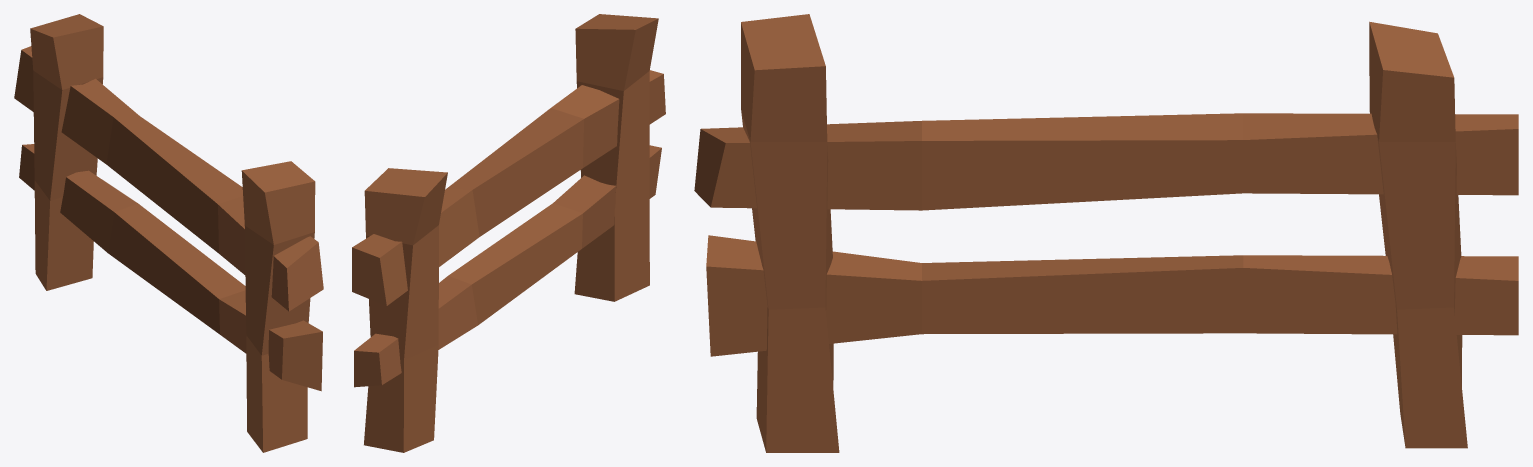
File: Zaun.fbx
3 views of the same model, side by side, from view 1: azimuth 30°, elevation 25°; view 2: azimuth 150°, elevation 25°; view 3: azimuth 270°, elevation 25° (orthographic). The views are drawn at different scales.
Parts seen in each view (by area): view 1: Cube.001; view 2: Cube.001; view 3: Cube.001.
Boxes of the visible parts, x1,y1,x2,y2 form: Cube.001: (14, 14, 323, 452); Cube.001: (352, 14, 665, 452); Cube.001: (694, 14, 1518, 452).
Bounding box in the file's own units: 9.34 × 43.84 × 81.51.
